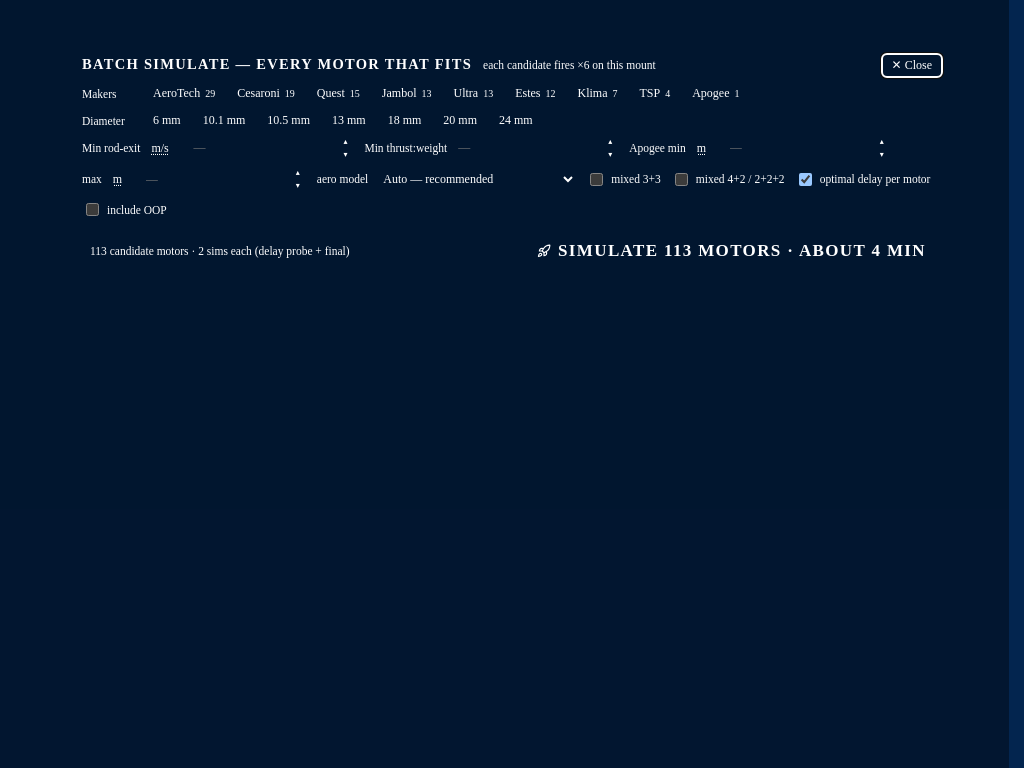
the batch dialog › disarms when the sweep shrinks again
Click the checkbox labelled "mixed 3+3" at (597, 179), box [590,172,603,186]
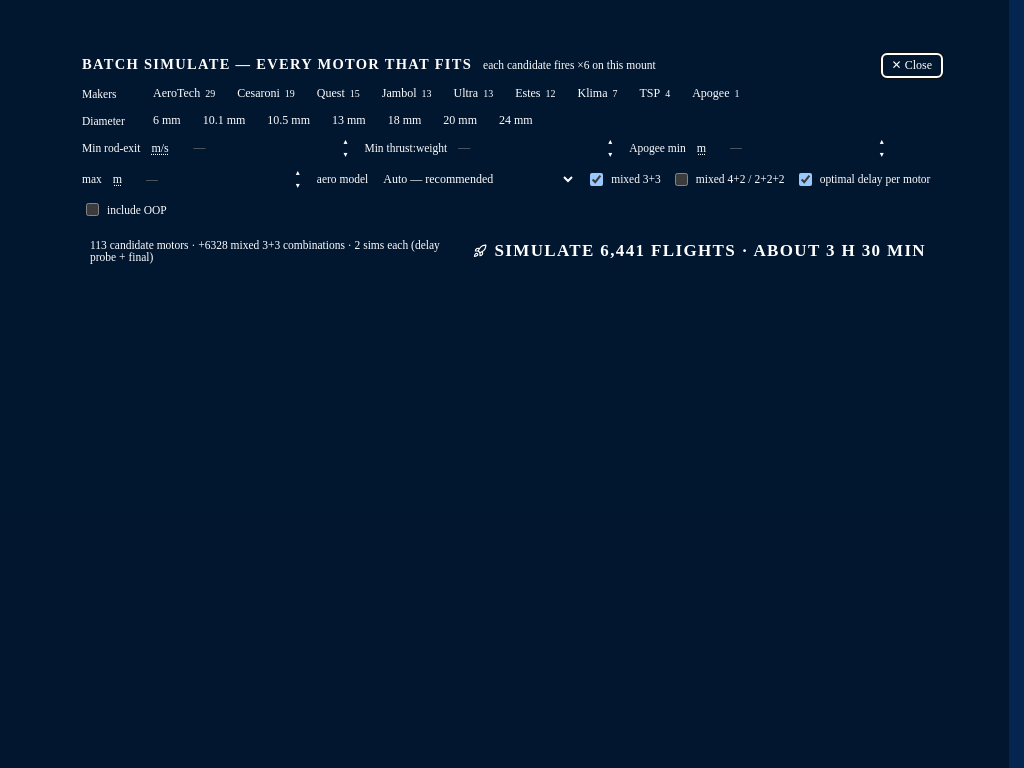
Click the button "Simulate 6,441 flights · about 3 h 30 min" at (700, 251), box [457,235,942,267]
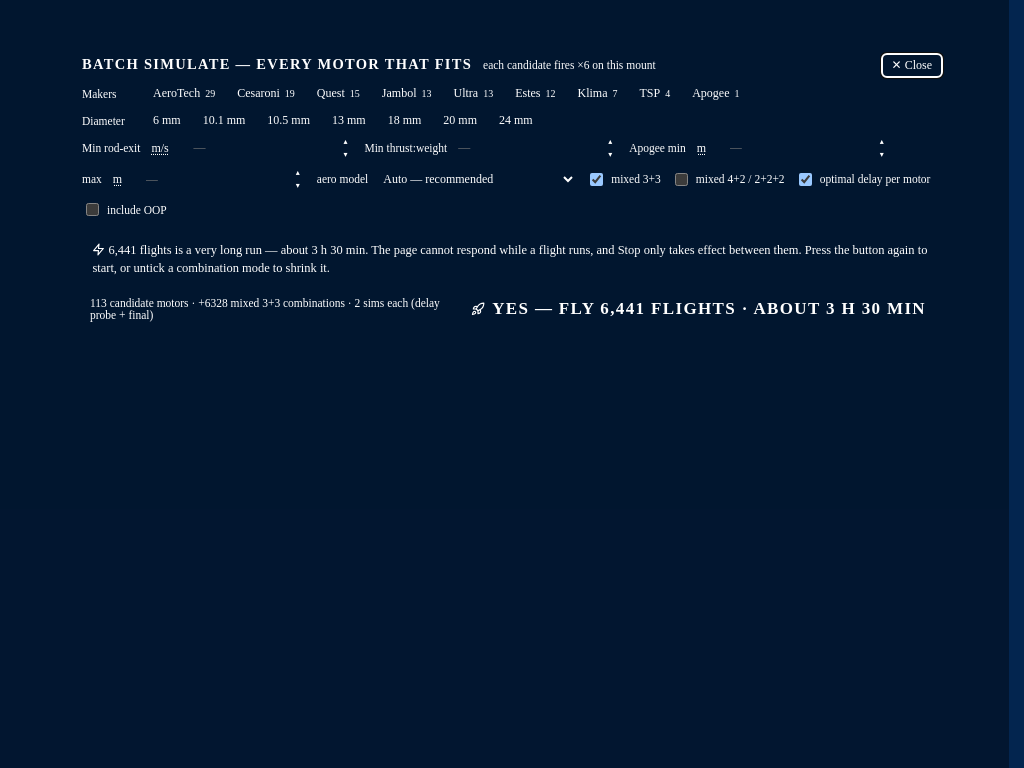
Check: the button "Yes — fly 6,441 flights · about 3 h 30 min" is shown, box [455,293,942,325]
Click the checkbox labelled "mixed 3+3" at (597, 179), box [590,172,603,186]
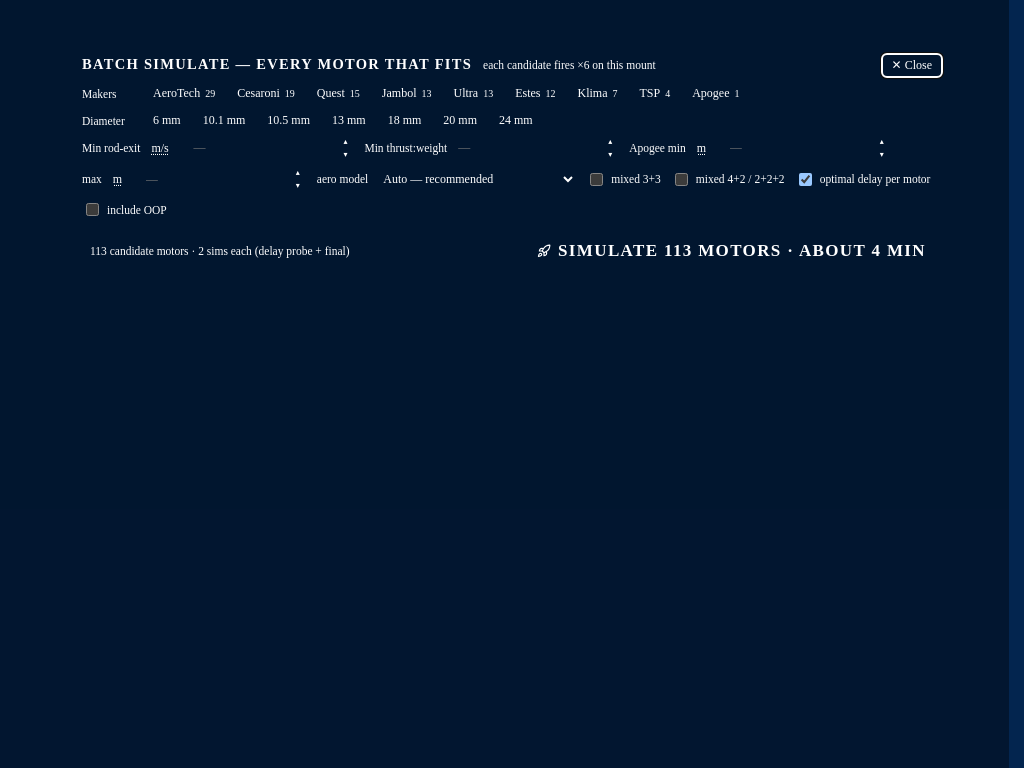
Check: the button "Simulate 113 motors · about 4 min" is shown, box [521,235,942,267]
